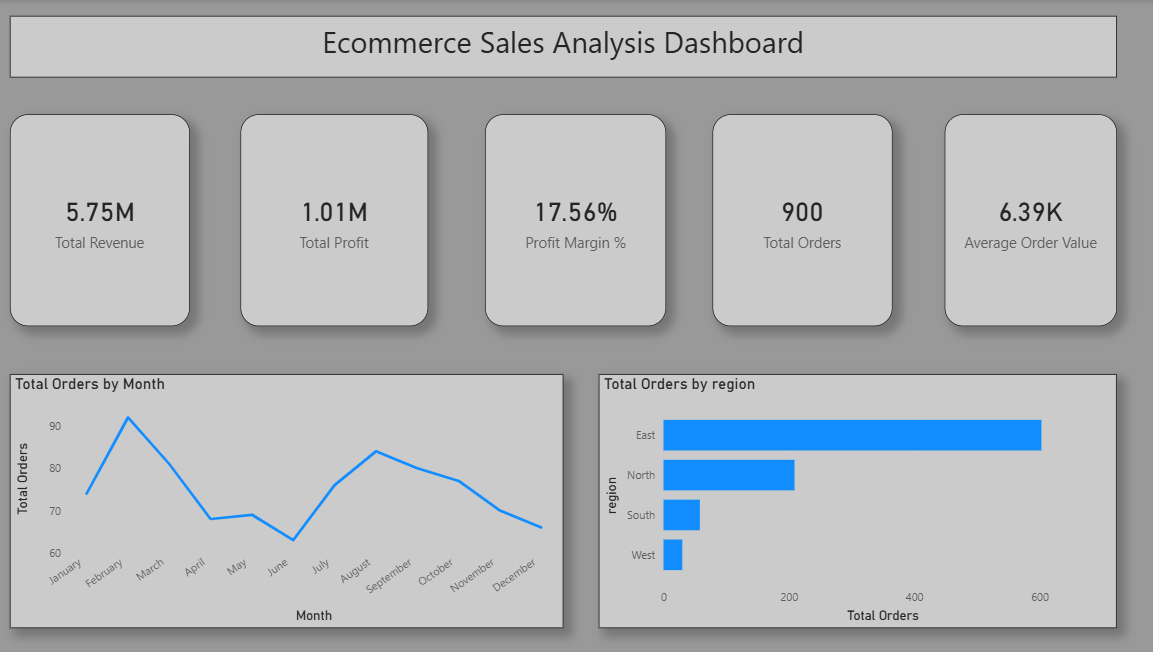

The dashboard page shown, as its layout file describes it:
{"tool":"powerbi","page":{"name":"Execute Summary","canvas":[1280,720],"ordinal":0},"visuals":[{"type":"card","fields":{"Values":["order_items.Total Revenue"]},"box":[18.6,126.7,197.7,233.1],"z":0},{"type":"card","fields":{"Values":["order_items.Total Profit"]},"box":[272,126.7,206.1,233.1],"z":1000},{"type":"card","fields":{"Values":["order_items.Profit Margin %"]},"box":[540.6,126.7,199.3,233.1],"z":2000},{"type":"card","fields":{"Values":["orders.Total Orders"]},"box":[790.6,126.7,197.7,233.1],"z":3000},{"type":"card","fields":{"Values":["orders.Average Order Value"]},"box":[1045.7,126.7,189.2,233.1],"z":4000},{"type":"lineChart","fields":{"Category":["orders.order_date.Variation.Date Hierarchy.Month"],"Y":["orders.Total Orders"]},"box":[18.6,412.2,608.2,278.8],"z":5000},{"type":"clusteredBarChart","fields":{"Category":["customers.region"],"Y":["orders.Total Orders"]},"box":[665.6,412.2,569.3,278.8],"z":6000},{"type":"textbox","box":[18.6,18.6,1216.4,67.6],"z":7000}]}

Visuals, with their boxes in screenshot pixels (x1, y1, x2, y2), scaled from the page's 1280x720 canvas onto the 1153x652 screenshot:
card - order_items.Total Revenue: [x1=17, y1=115, x2=195, y2=326]
card - order_items.Total Profit: [x1=245, y1=115, x2=431, y2=326]
card - order_items.Profit Margin %: [x1=487, y1=115, x2=666, y2=326]
card - orders.Total Orders: [x1=712, y1=115, x2=890, y2=326]
card - orders.Average Order Value: [x1=942, y1=115, x2=1112, y2=326]
lineChart - orders.order_date.Variation.Date Hierarchy.Month x orders.Total Orders: [x1=17, y1=373, x2=565, y2=626]
clusteredBarChart - customers.region x orders.Total Orders: [x1=600, y1=373, x2=1112, y2=626]
textbox: [x1=17, y1=17, x2=1112, y2=78]
